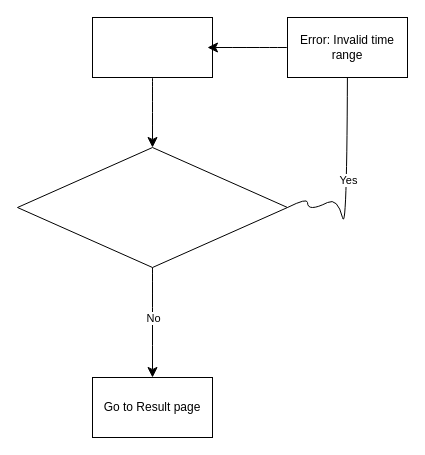
Some shapes in this 425 by 455 pixel diagram are drawn without their labels. Here are the shapes that lost their labels. From the top down, the centre of each, then its label:
At point 152,47: "Search".
At point 152,207: "If (endTime isBeforeOrEqualTo startTime)".
